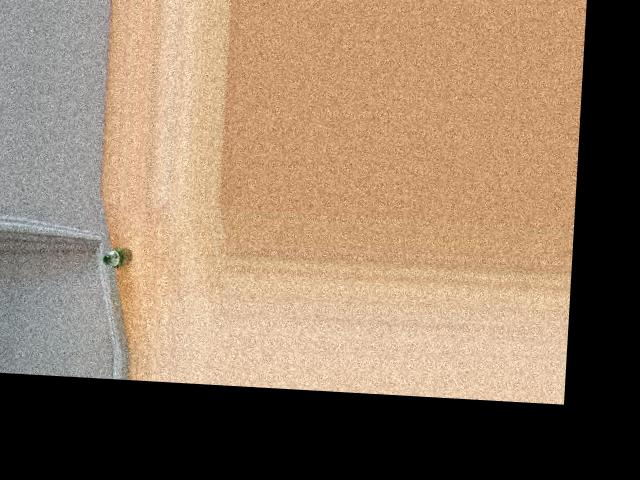beer: (103, 246, 132, 268)
